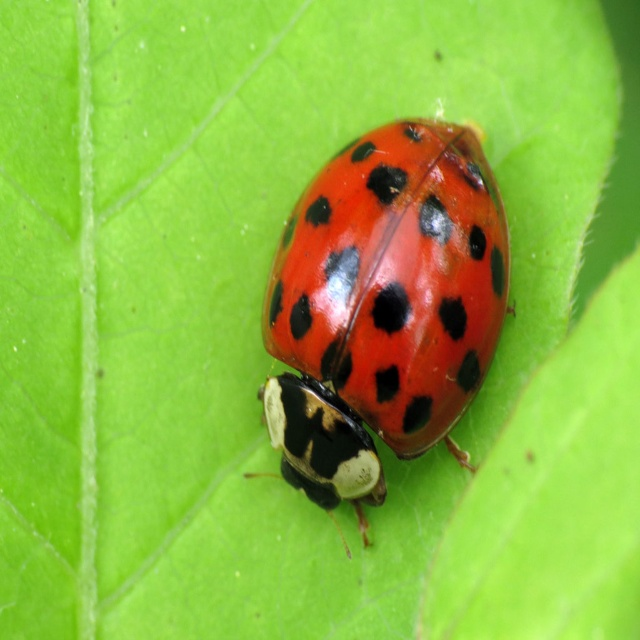Ladybug: (241, 116, 519, 558)
